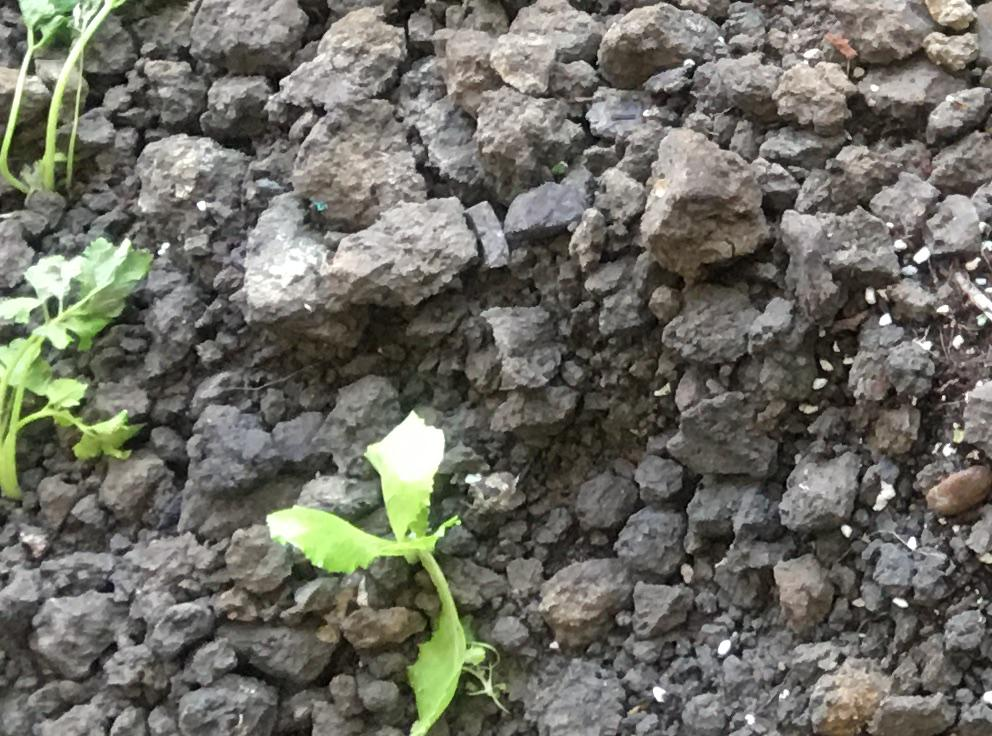block: (240, 194, 364, 358), (641, 129, 765, 277), (294, 104, 434, 234), (329, 198, 475, 307), (595, 5, 719, 84), (188, 1, 313, 73)
